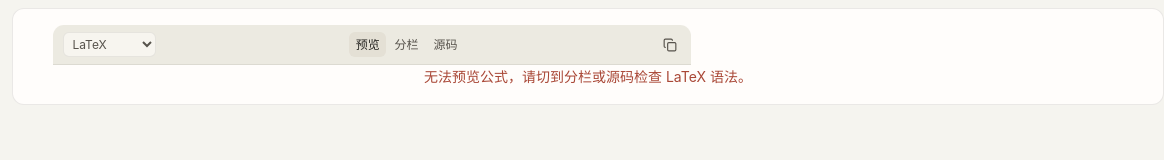
CodeBlockOverlay › gives an invalid formula a readable fallback and keeps the source recoverable
The image size is (1164, 160).
Expected: the message shows "无法预览公式", [424,68,752,85]
Click the button "源码" at (445, 44), box [427,32,464,57]
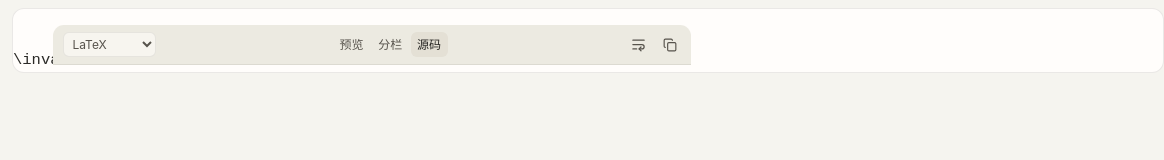
Now the text box labelled "\\invalidMathCommand" is shown, box [13,51,190,69]
